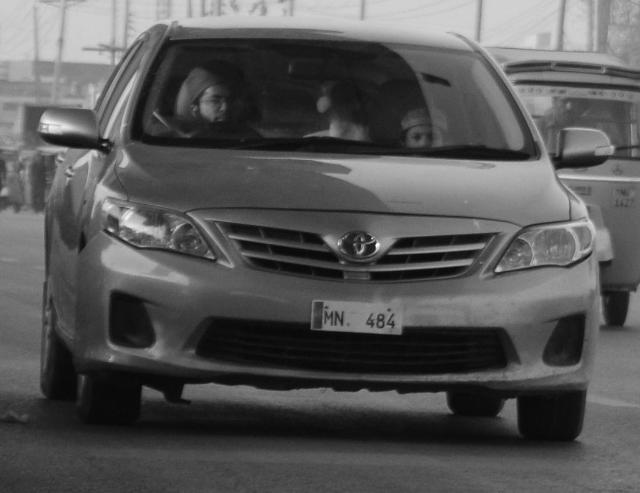Number: (314, 308, 398, 332)
